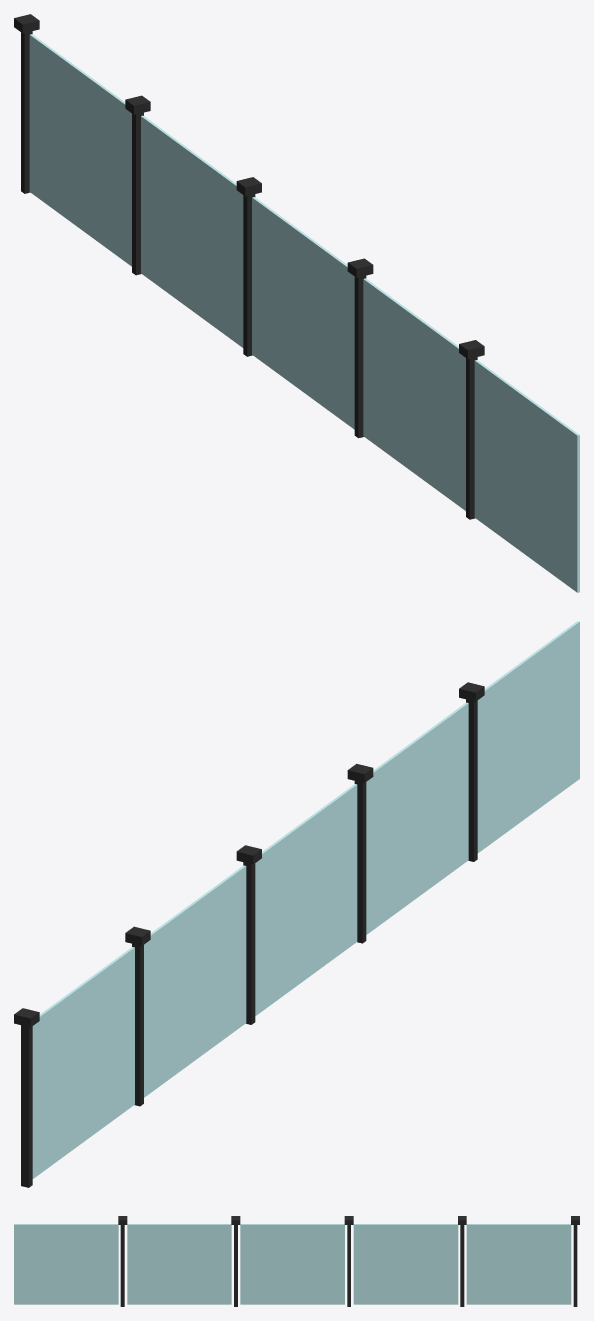
The model's file is Balcony.013.fbx.
The picture shows the model from 3 angles, top to bottom: view 1: azimuth 30°, elevation 25°; view 2: azimuth 150°, elevation 25°; view 3: azimuth 270°, elevation 25°; orthographic projection. The views are drawn at different scales.
Parts seen in each view (by area): view 1: Balcony.013; view 2: Balcony.013; view 3: Balcony.013.
Part boxes in pixels (box(x1,y1,x2,y2)): Balcony.013: box(14, 14, 579, 592); Balcony.013: box(14, 621, 579, 1187); Balcony.013: box(14, 1216, 579, 1306).
Size of the model in its own units: 44.44 by 437 by 2559.
